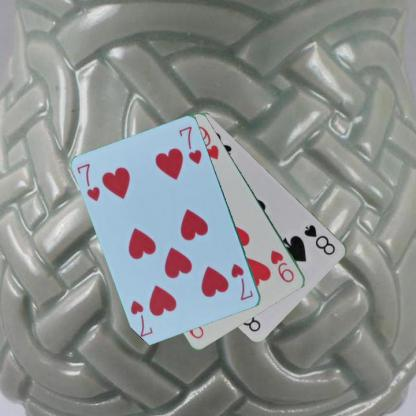7h: (74, 161, 102, 204), (228, 261, 255, 302)
8s: (301, 222, 337, 256)
9h: (268, 247, 296, 284)
